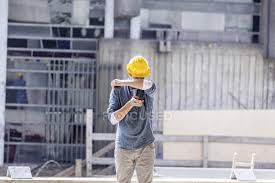Person_wearing_helmet: (124, 50, 150, 76)
